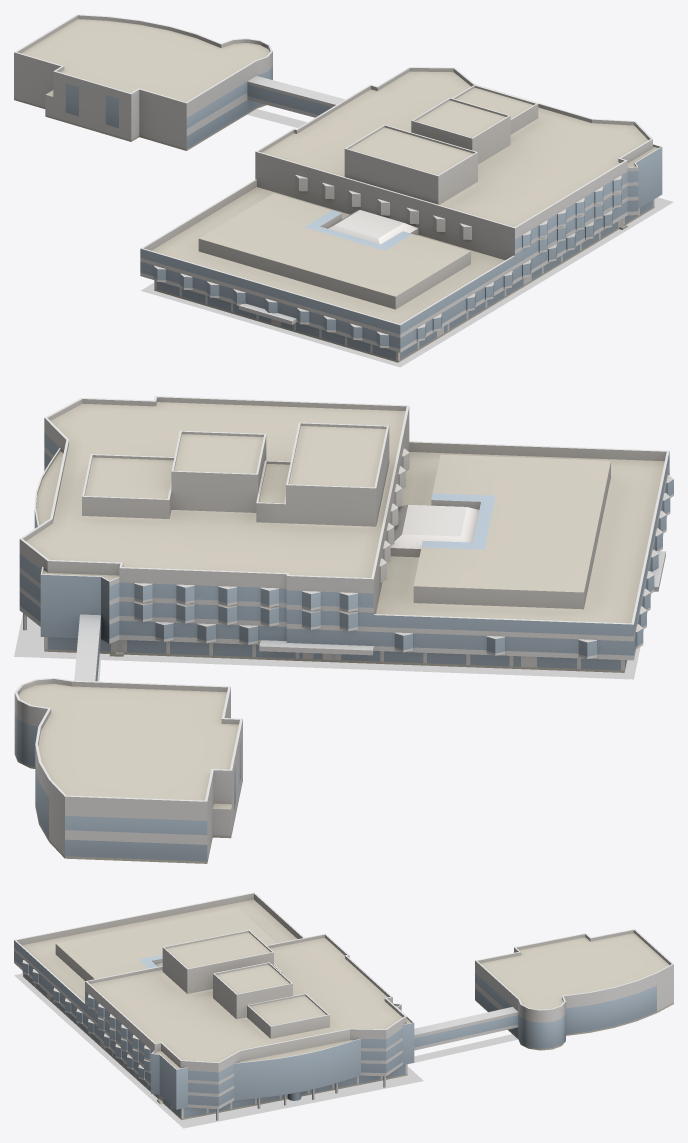
Rendered from Soliman-Hospital.glb.
3 views of the same model, one above another, from view 1: azimuth 30°, elevation 25°; view 2: azimuth 150°, elevation 25°; view 3: azimuth 270°, elevation 25° (orthographic). The views are drawn at different scales.
Visible parts, largest first — view 1: solimanhospital1, solimanhospital2, solimanhospital1_cont; view 2: solimanhospital1, solimanhospital2, solimanhospital1_cont; view 3: solimanhospital1, solimanhospital2, solimanhospital1_cont, solimanhospital2_cont.
Boxes of the visible parts, box(x1,y1,x2,y2) form: solimanhospital1: box(140, 67, 662, 362); solimanhospital2: box(14, 14, 345, 150); solimanhospital1_cont: box(141, 197, 673, 367); solimanhospital1: box(19, 396, 673, 672); solimanhospital2: box(14, 614, 242, 863); solimanhospital1_cont: box(14, 515, 667, 679); solimanhospital1: box(14, 892, 414, 1120); solimanhospital2: box(414, 929, 673, 1050); solimanhospital1_cont: box(14, 973, 423, 1128); solimanhospital2_cont: box(408, 1034, 517, 1064).
Bounding box in the file's own units: 140 × 26 × 195.
Materials: 3 (2 with a texture image).
